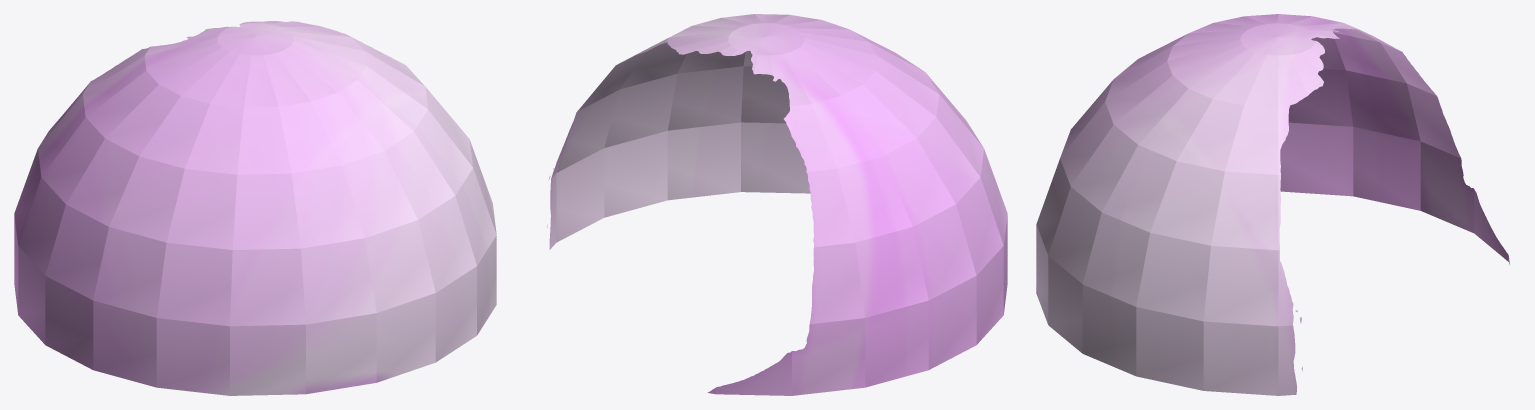
The model's file is round_cap.fbx.
3 renders of one model, left to right at view 1: azimuth 30°, elevation 25°; view 2: azimuth 150°, elevation 25°; view 3: azimuth 270°, elevation 25°, orthographic.
Parts seen in each view (by area): view 1: round_cap:headusOBJexport; view 2: round_cap:headusOBJexport; view 3: round_cap:headusOBJexport.
Part boxes in pixels (x1=…): round_cap:headusOBJexport: x1=14, y1=21, x2=496, y2=395; round_cap:headusOBJexport: x1=547, y1=14, x2=1007, y2=395; round_cap:headusOBJexport: x1=1036, y1=14, x2=1509, y2=395.
Size of the model in its own units: 21.16 by 12.38 by 21.16.
